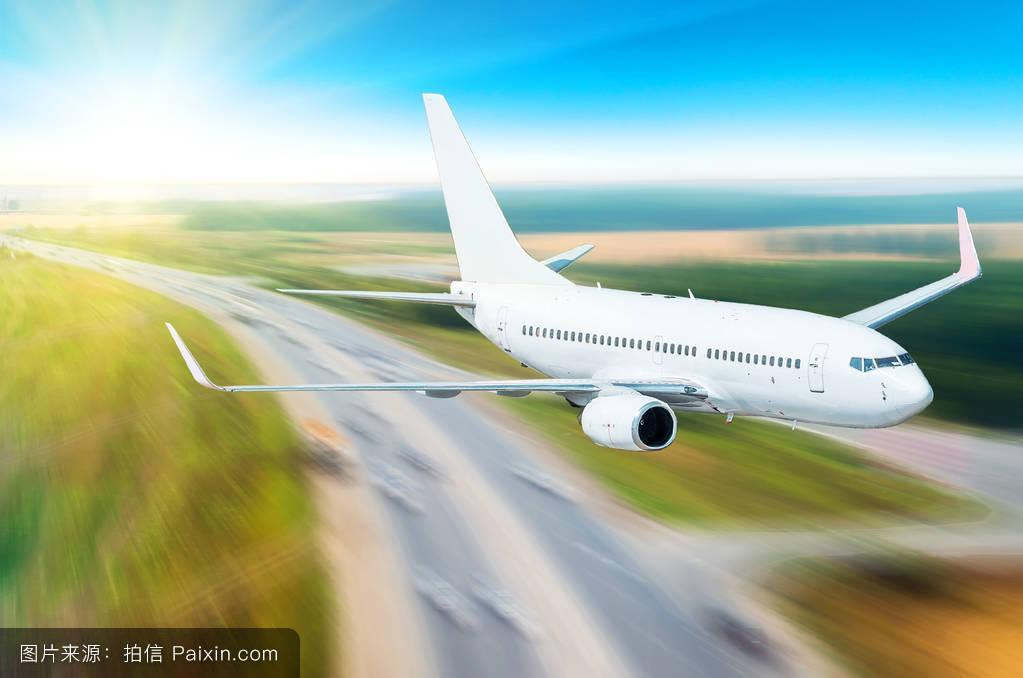airplane: (136, 90, 994, 453)
